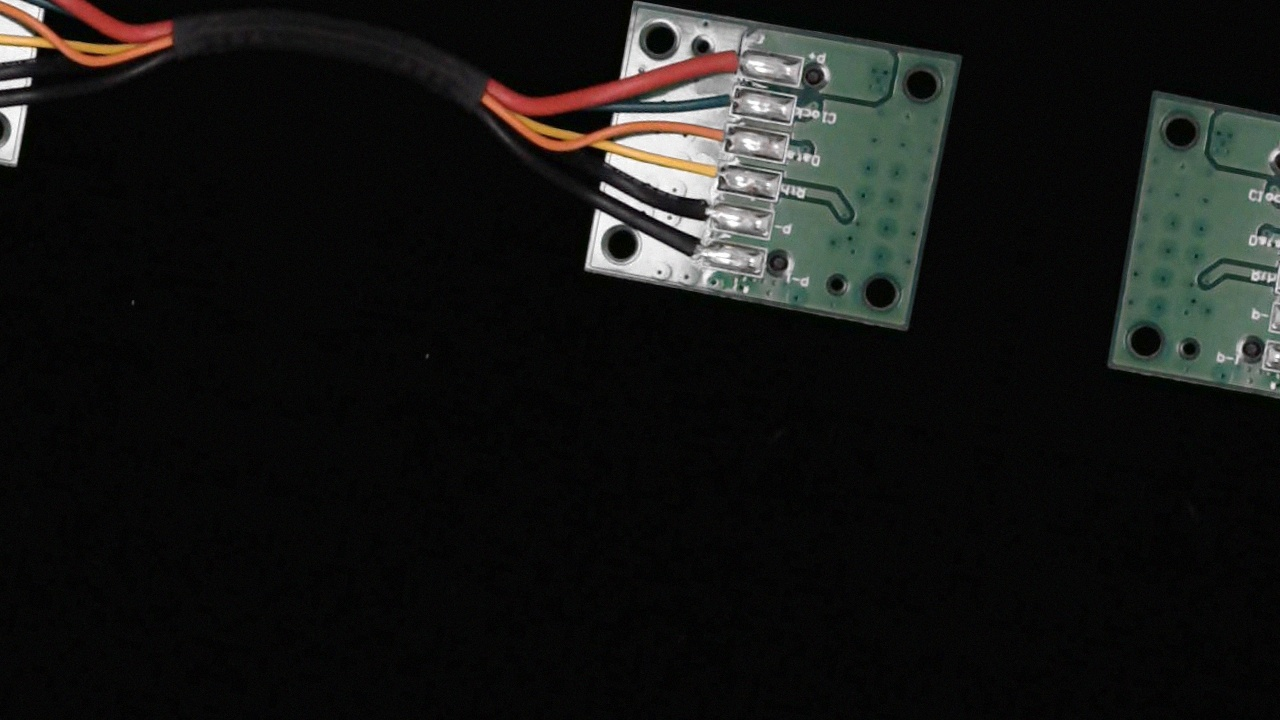Black: (670, 192, 730, 229)
Black1: (662, 230, 722, 268)
Green: (697, 79, 754, 118)
Orange: (688, 116, 745, 156)
Red: (704, 42, 761, 77)
Yellow: (674, 152, 736, 193)
